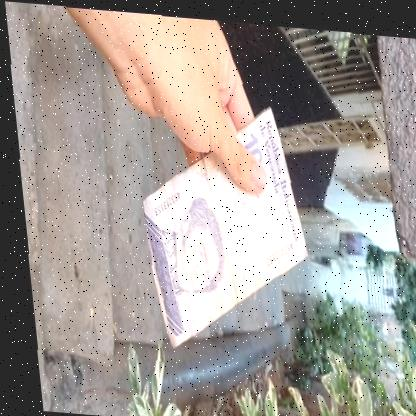vef_front: (127, 93, 311, 355)
